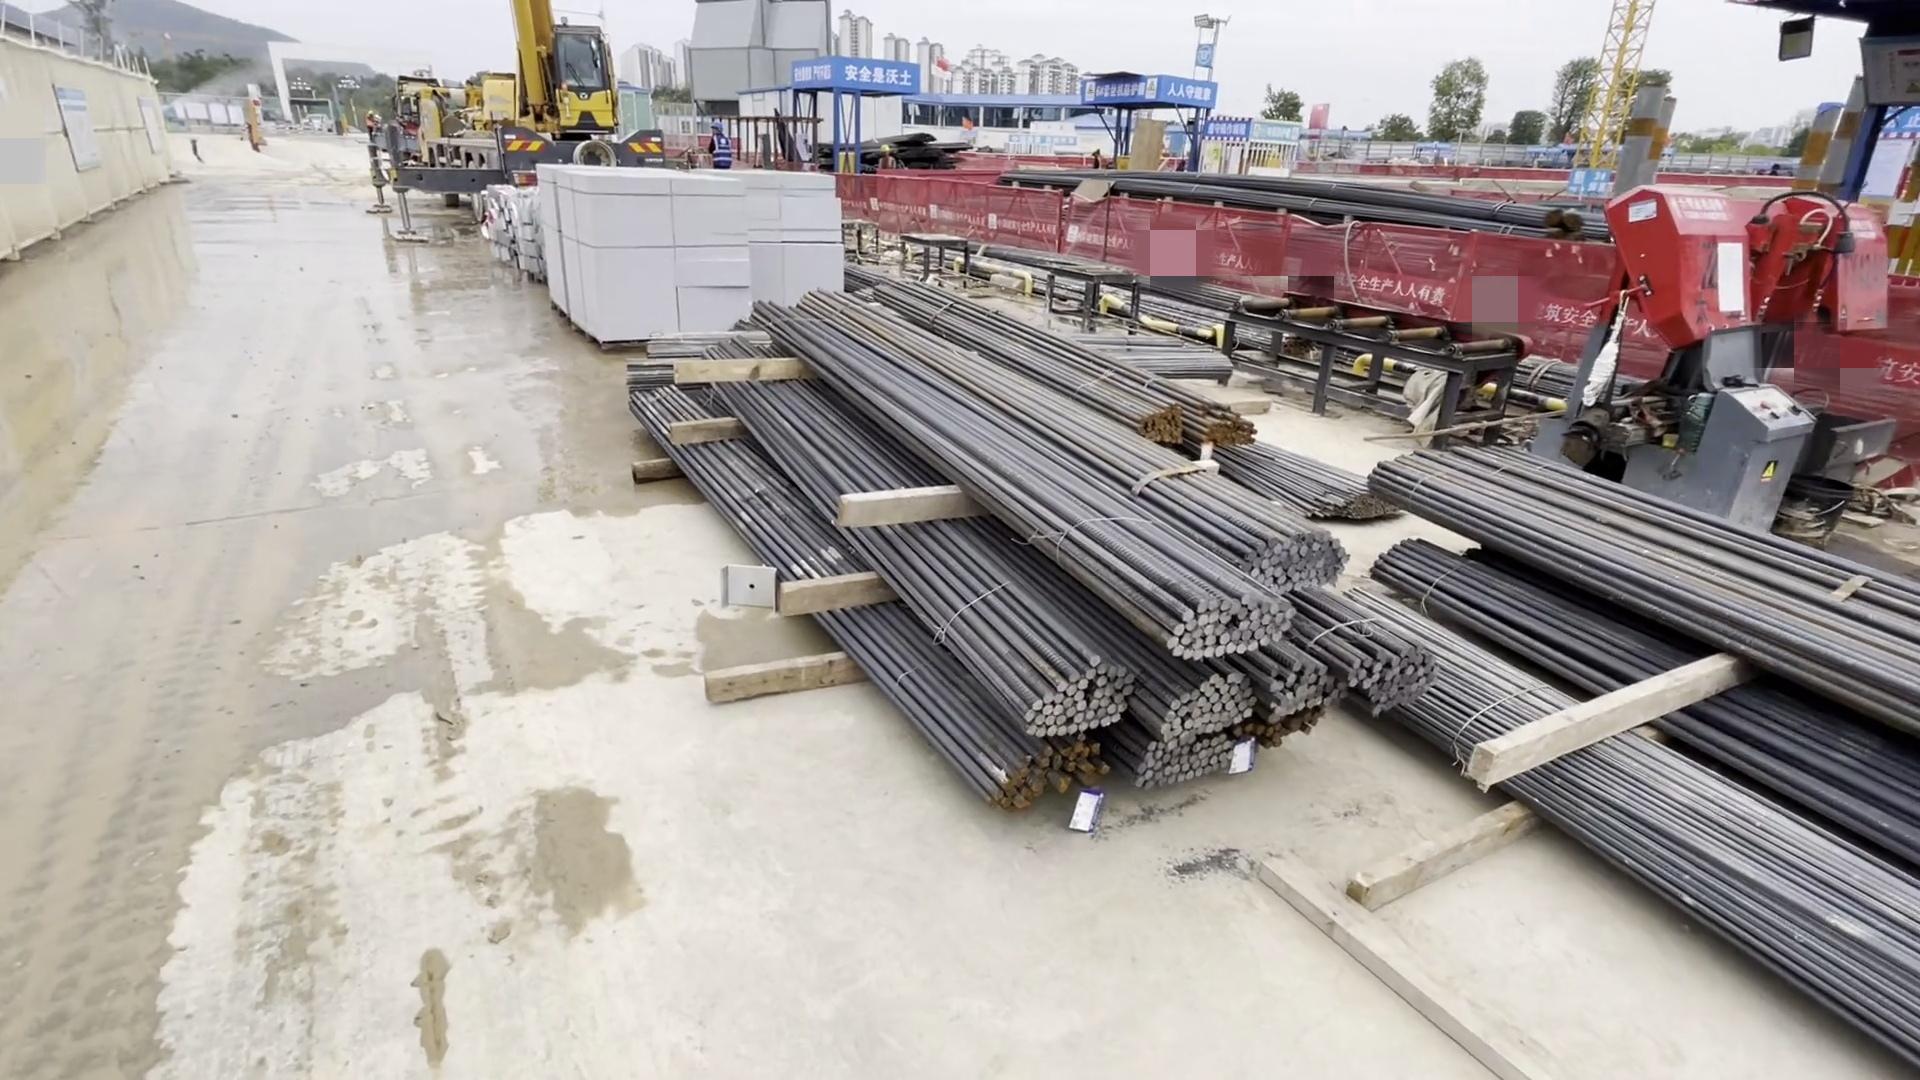brick: (534, 162, 849, 344)
fence: (849, 157, 1582, 364)
rebar: (654, 277, 1428, 831), (1395, 433, 1920, 1038)
slogan: (1062, 62, 1222, 117), (789, 53, 923, 96)
